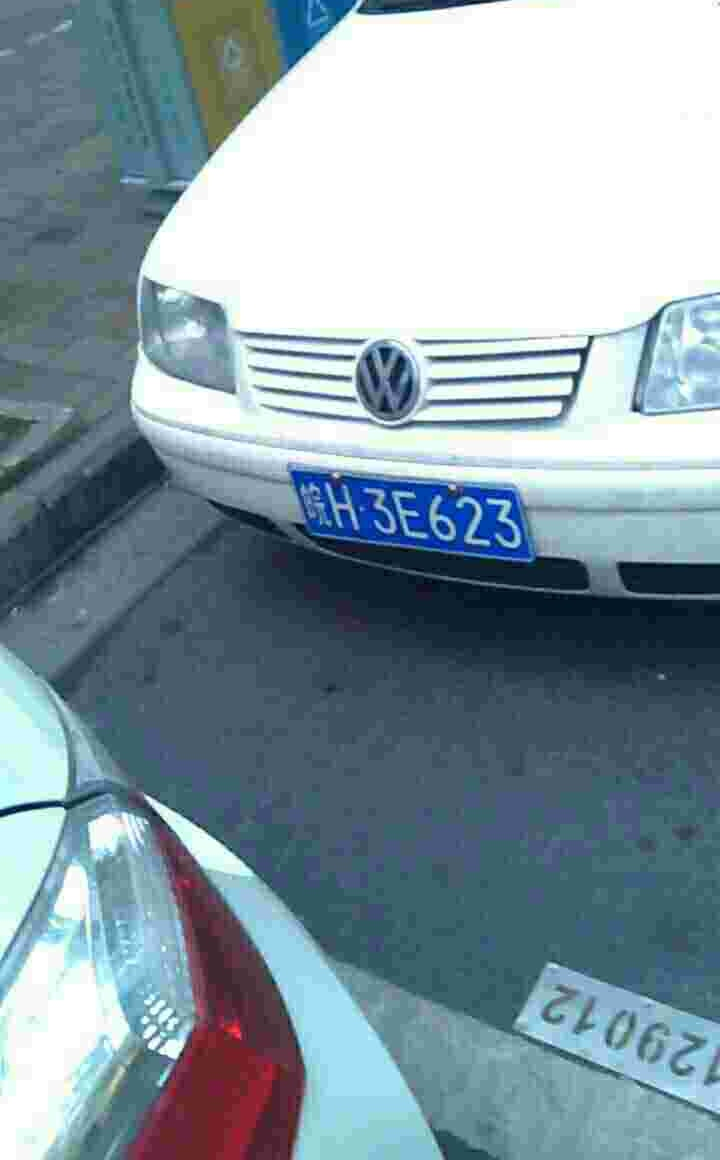plate: (283, 464, 539, 564)
